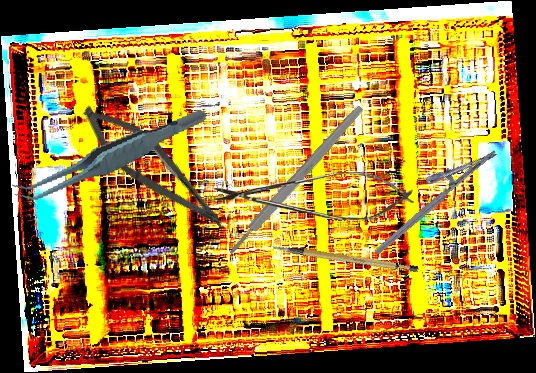Micro Scissor: (68, 94, 242, 241), (214, 172, 414, 220)
Needle Holder: (359, 133, 499, 256)
Scalpel Handle: (225, 103, 366, 257), (271, 222, 420, 292)
Tissue Forceps: (4, 107, 216, 205)
